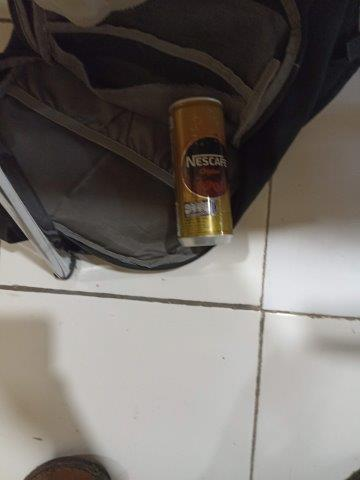kaleng: (168, 96, 234, 249)
